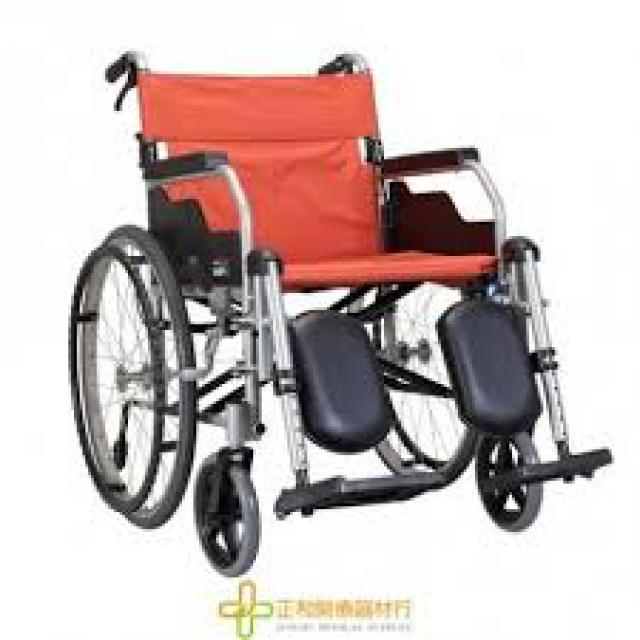wheelchair: (63, 37, 632, 572)
